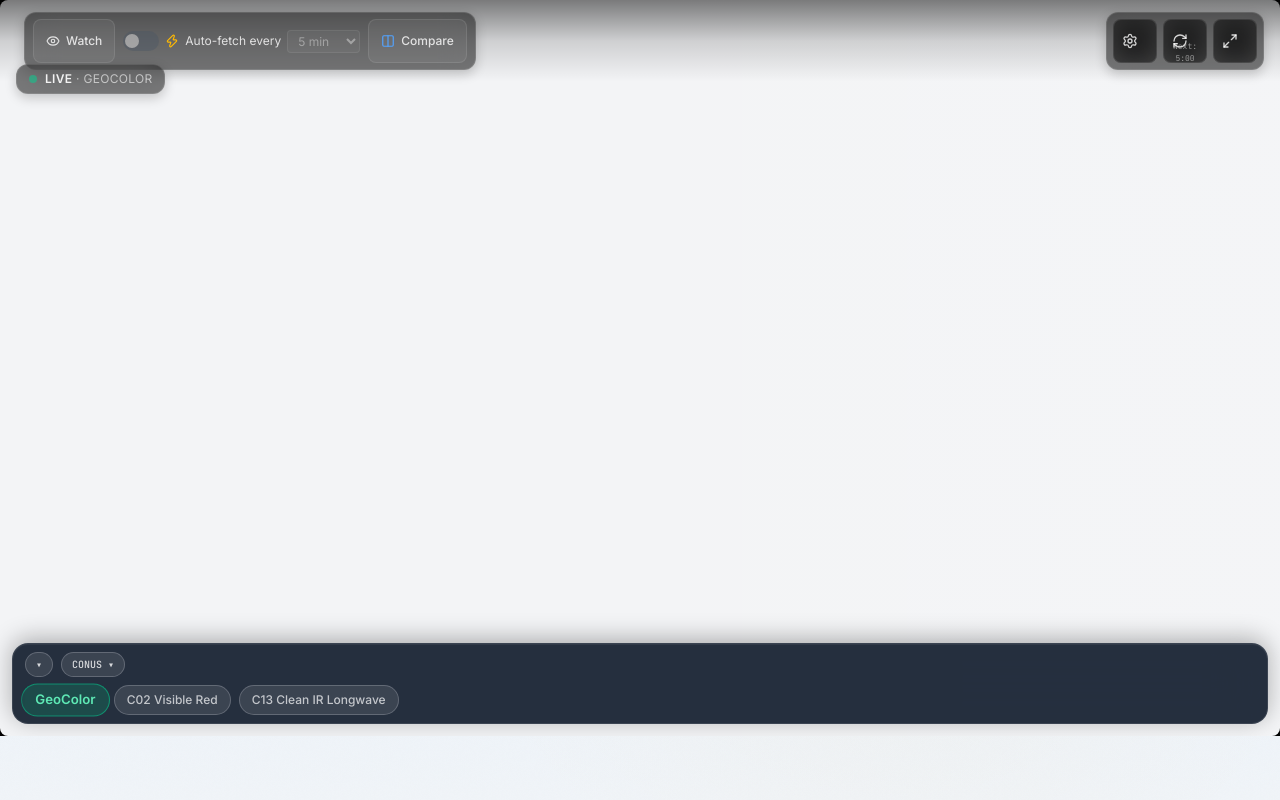
it: LiveTab — extended coverage › shows MesoFetchRequiredMessage for meso sectors without CDN
Note: Click sector chip to open picker
Click the button with test id "pill-strip-sector" at (93, 664), box [61,652,125,677]
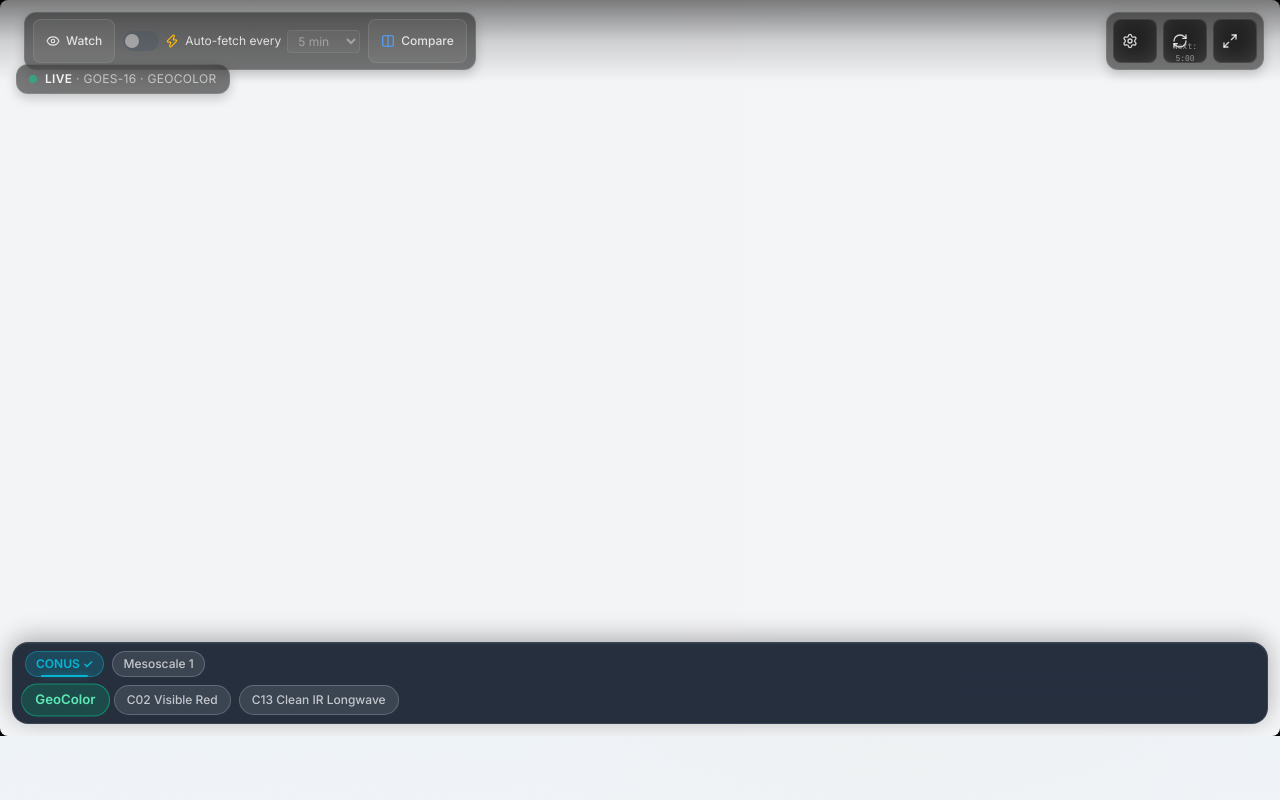
Click the button "Mesoscale 1" at (159, 664), box [112,651,205,677]
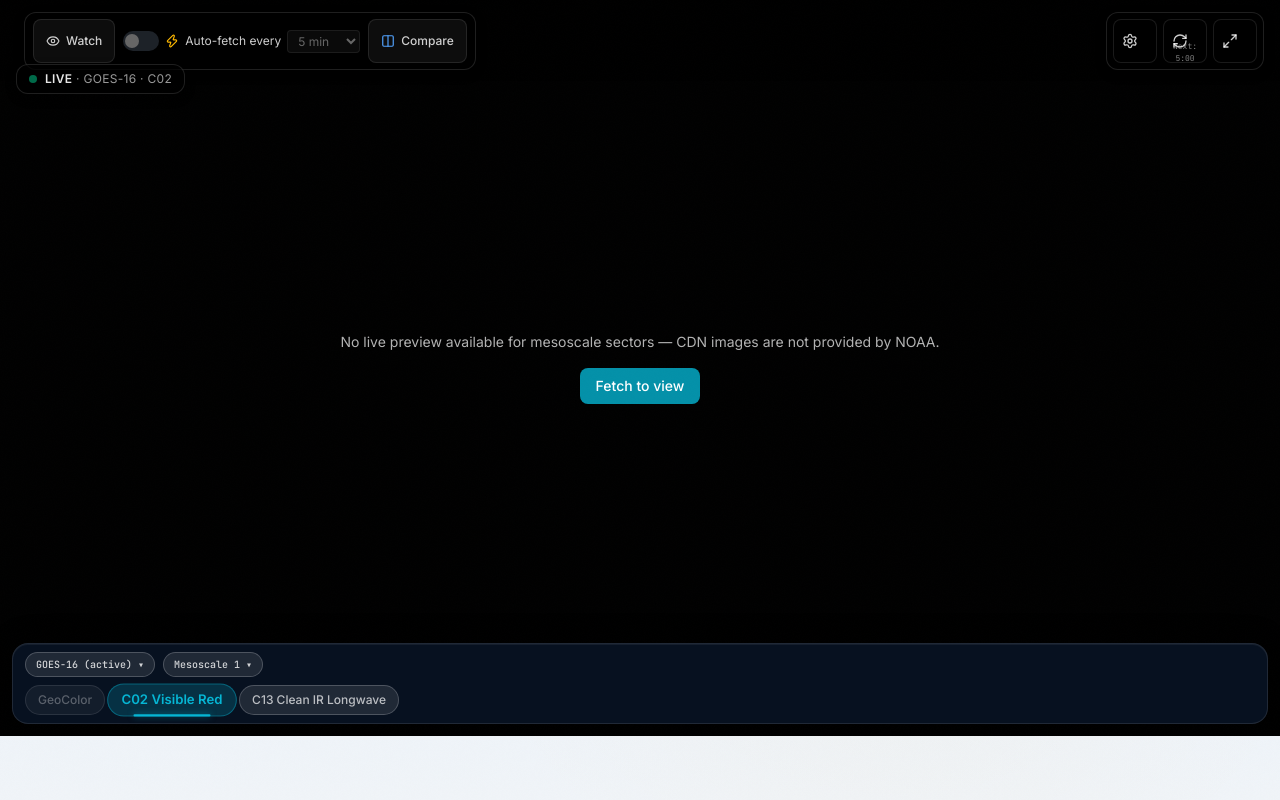
expect the button "Fetch to view" is shown: met, box [580,368,700,404]
